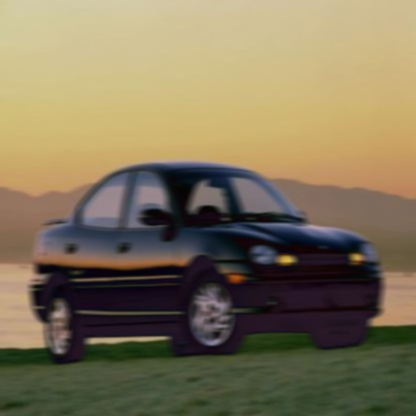Vehicle: (32, 160, 383, 364)
